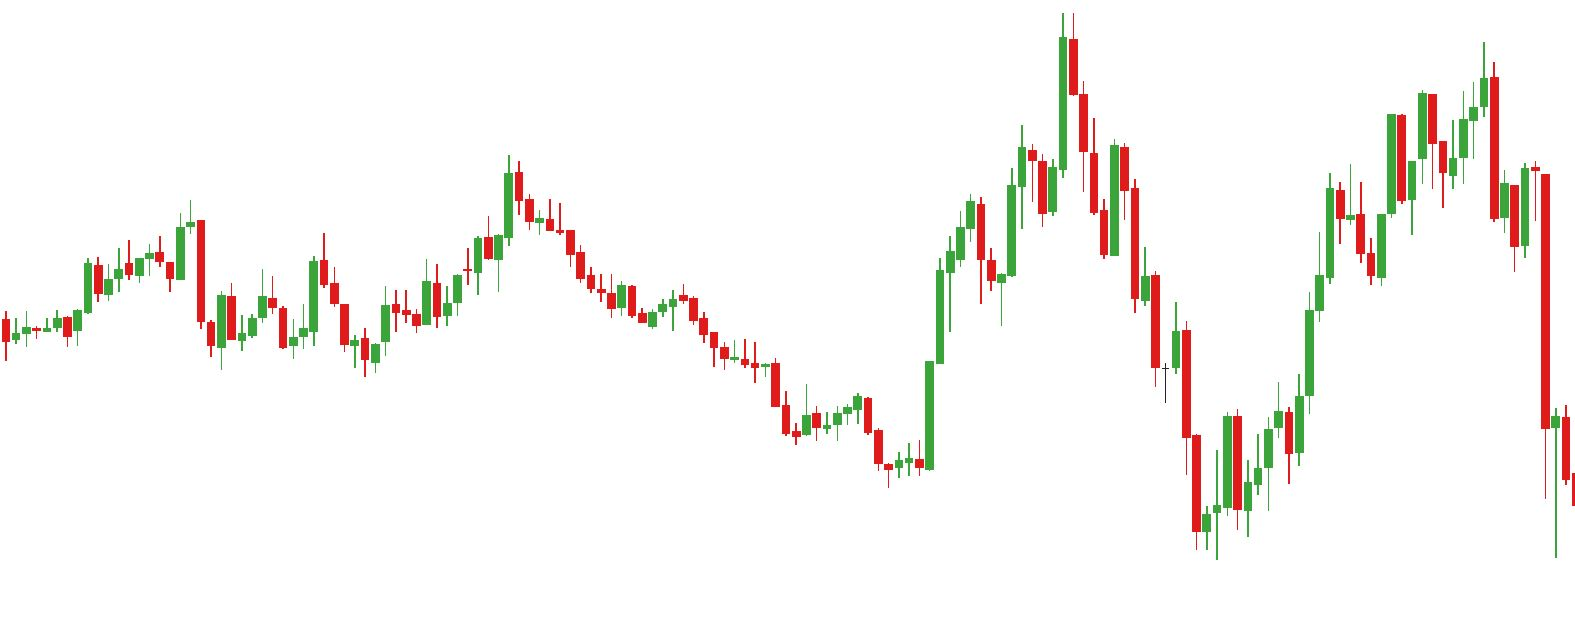buy: (61, 274, 229, 376)
sell: (1415, 44, 1502, 175)
